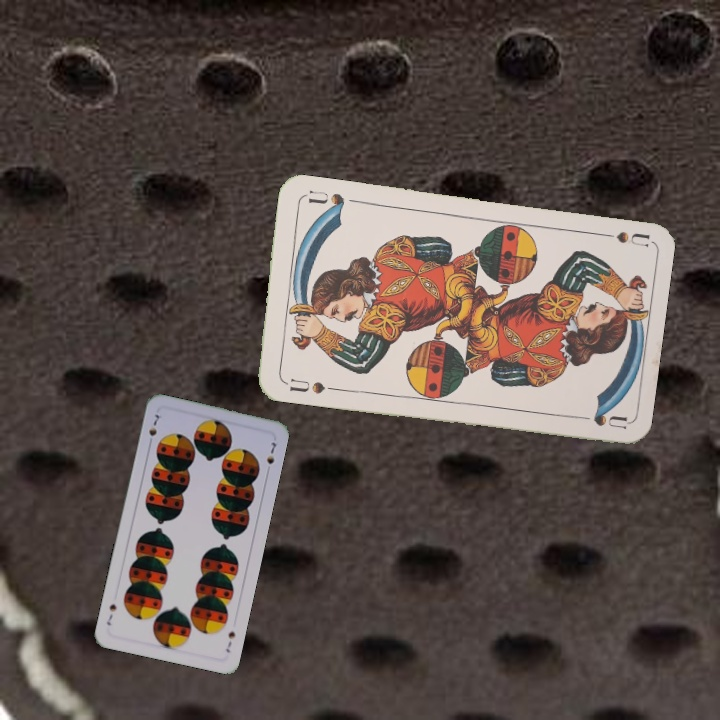S7: (144, 410, 162, 448), (222, 627, 238, 655)
SU: (590, 227, 650, 250), (286, 374, 328, 396)
